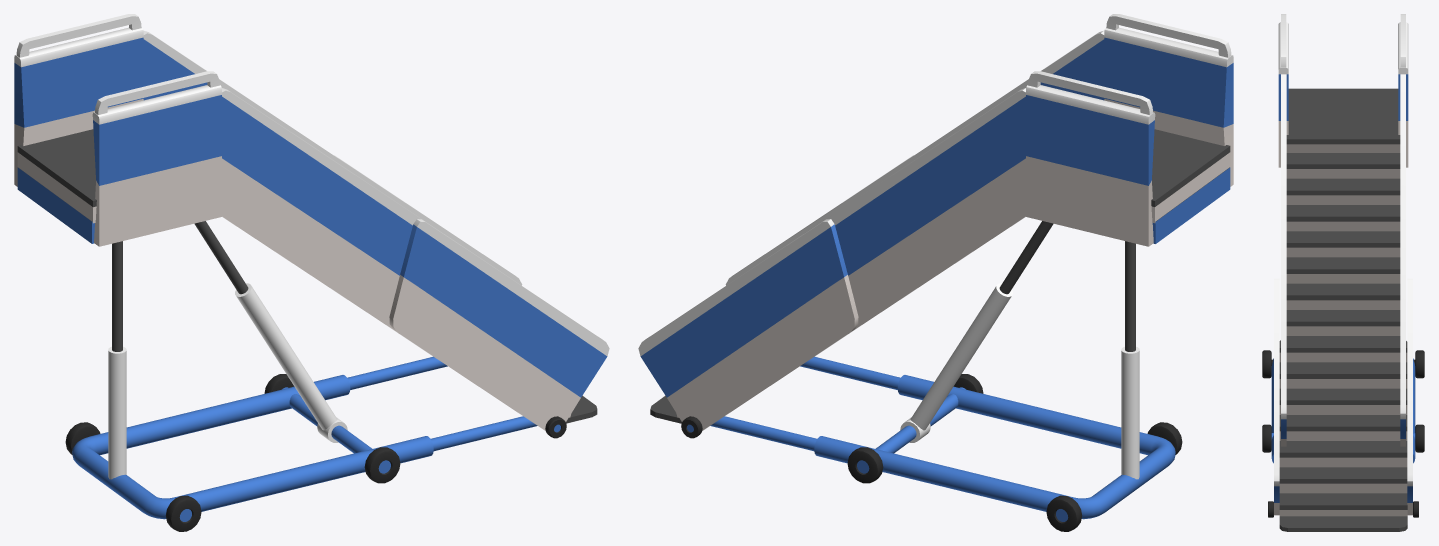
Rendered from airport_stairs.glb.
3 views of the same model, side by side, from view 1: azimuth 30°, elevation 25°; view 2: azimuth 150°, elevation 25°; view 3: azimuth 270°, elevation 25° (orthographic). The views are drawn at different scales.
Visible parts, largest first — view 1: 03.AirplaneStairs; view 2: 03.AirplaneStairs; view 3: 03.AirplaneStairs.
Part boxes in pixels (box(x1,y1,x2,y2)): 03.AirplaneStairs: box(14, 14, 609, 531); 03.AirplaneStairs: box(638, 14, 1233, 531); 03.AirplaneStairs: box(1262, 14, 1424, 531).
Size of what is drawn, in the model's own units: 9.61 by 7.96 by 3.47.
1 material, 1 textured.
